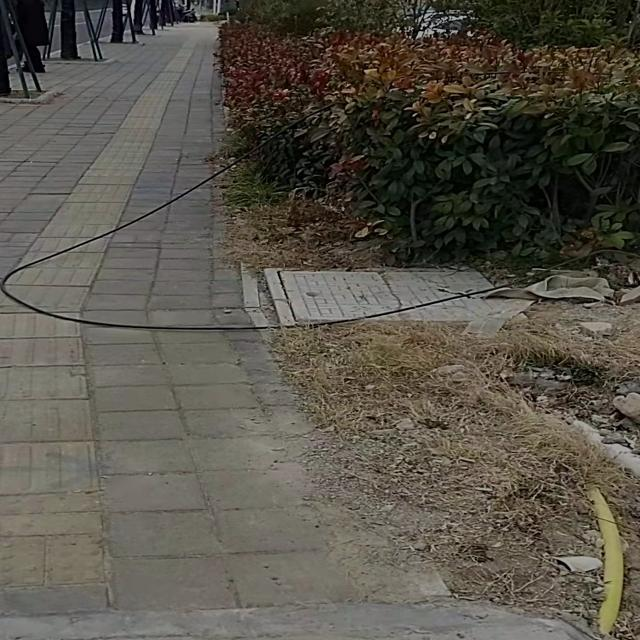good: (260, 261, 534, 328), (0, 623, 640, 640)
